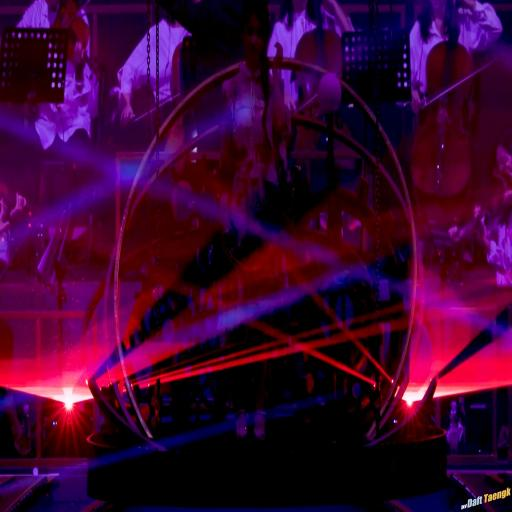IU: (240, 1, 270, 70)
